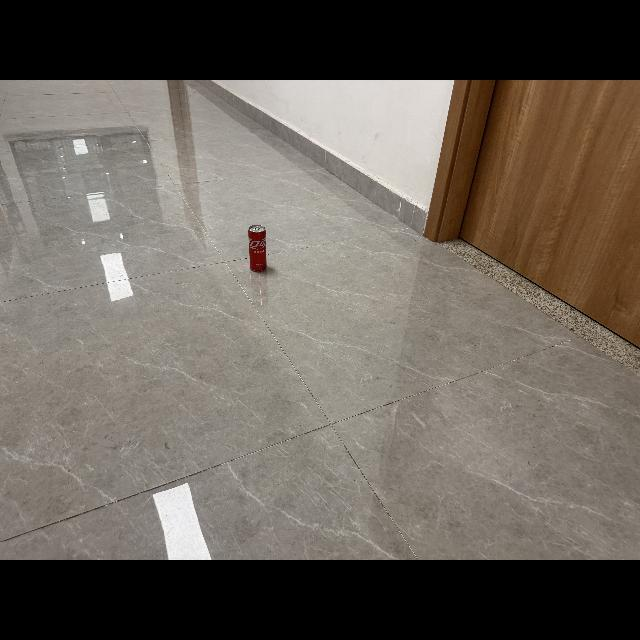Cola: (245, 222, 272, 276)
